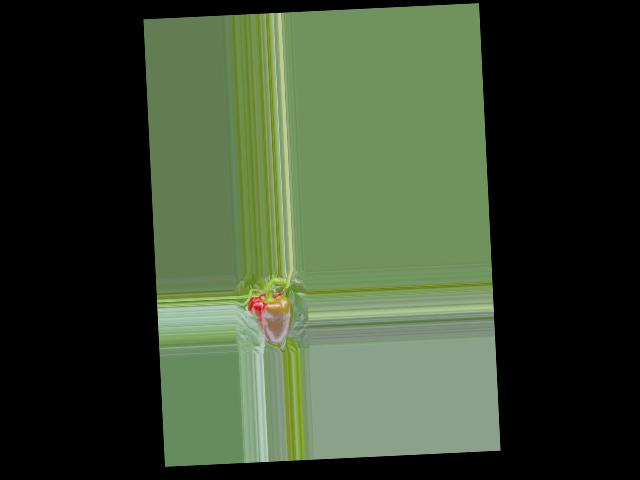bell_pepper: (244, 284, 299, 348)
